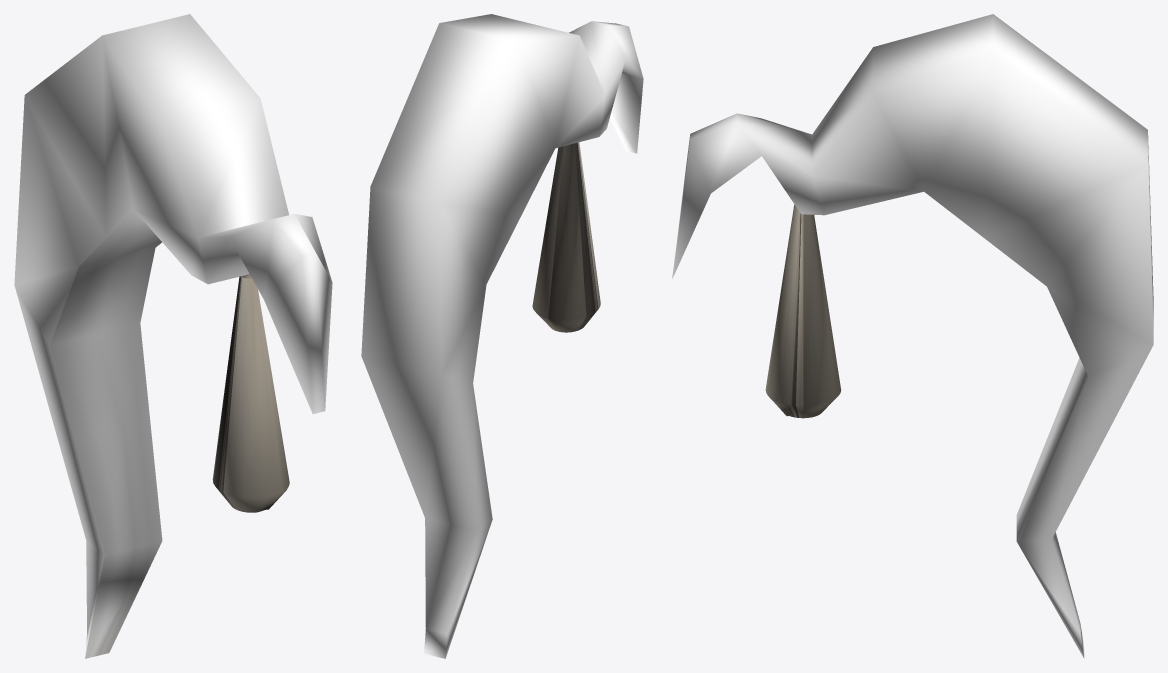
Rendered from lusi_prop_elite_3.dae.
The picture shows the model from 3 angles, left to right: view 1: azimuth 30°, elevation 25°; view 2: azimuth 150°, elevation 25°; view 3: azimuth 270°, elevation 25°; orthographic projection. The views are drawn at different scales.
Parts seen in each view (by area): view 1: lusi_prop_elite_3; view 2: lusi_prop_elite_3; view 3: lusi_prop_elite_3.
Part boxes in pixels (<box>): lusi_prop_elite_3: <box>14,14,332,658</box>; lusi_prop_elite_3: <box>361,14,643,658</box>; lusi_prop_elite_3: <box>672,14,1153,658</box>.
Bounding box in the file's own units: 0.1353 × 0.6105 × 0.8668.
